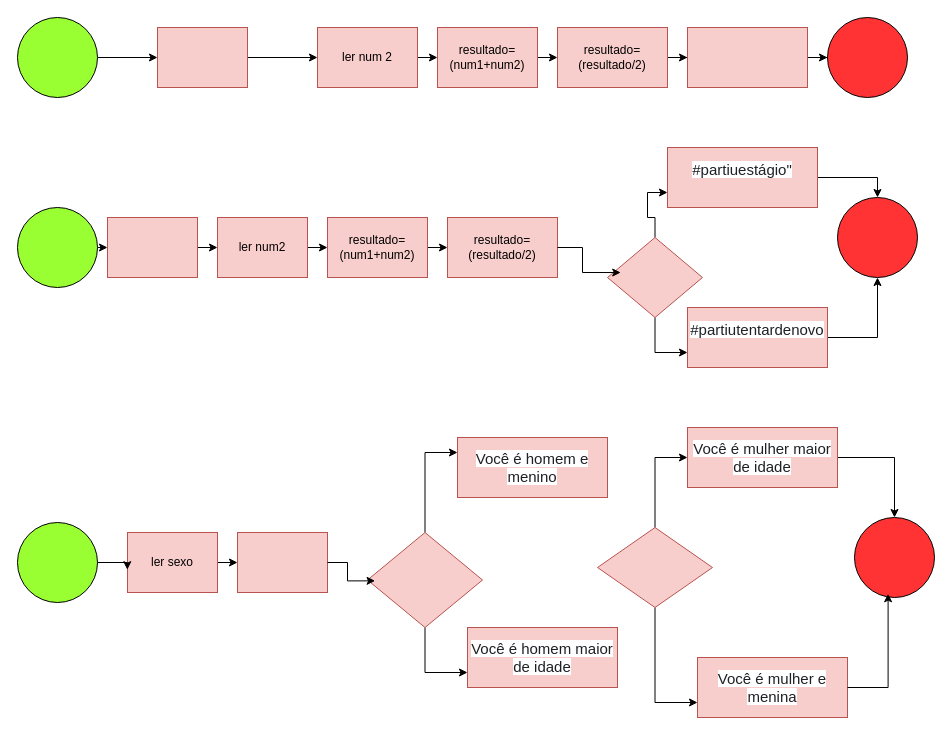
This 952x735 diagram has some shape labels left out. The shapes that lost their labels are listed below. From the top down, each one's centre as x and y in pixels, then its label:
pixel 202 57: ler num 1
pixel 747 57: exibir resultado
pixel 152 247: ler num1
pixel 654 277: resultado=>5
pixel 282 562: ler idade
pixel 424 580: homem&& >= 18
pixel 654 567: Mulher&& >=18
